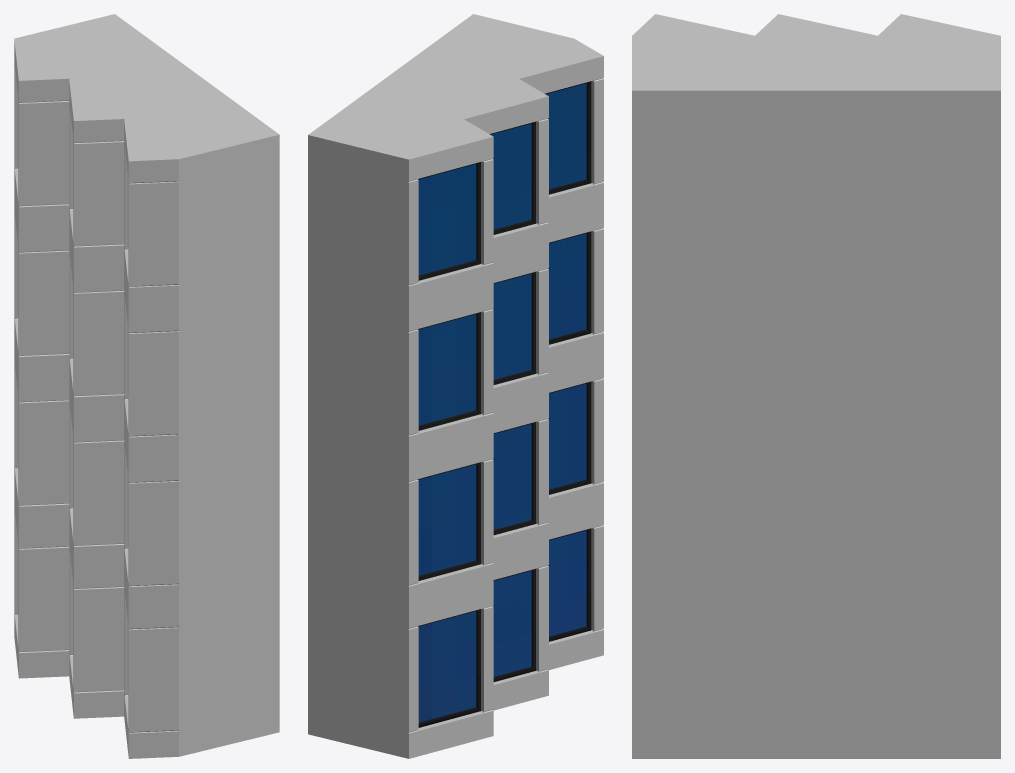
Rendered from CitySkyscraper02.fbx.
The picture shows the model from 3 angles, left to right: view 1: azimuth 30°, elevation 25°; view 2: azimuth 150°, elevation 25°; view 3: azimuth 270°, elevation 25°; orthographic projection. The views are drawn at different scales.
Visible parts, largest first — view 1: SM_City_Skyscraper_02_Mid_01a.mo; view 2: SM_City_Skyscraper_02_Mid_01a.mo; view 3: SM_City_Skyscraper_02_Mid_01a.mo.
Part boxes in pixels (<box>): SM_City_Skyscraper_02_Mid_01a.mo: <box>14,14,279,758</box>; SM_City_Skyscraper_02_Mid_01a.mo: <box>308,14,603,758</box>; SM_City_Skyscraper_02_Mid_01a.mo: <box>632,14,1000,758</box>.
Size of the model in its own units: 345 by 1400 by 700.
